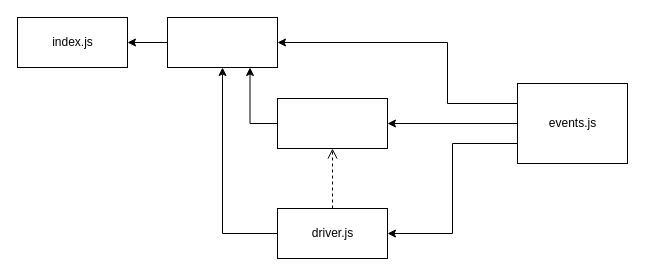
Image size: 645x276. Some labels were removed from this diagram. Here are the shapes that lost their labels. From the top down, the centre of each, then its label:
At (x=222, y=42): "Caps.js".
At (x=332, y=123): "vendor.js".
